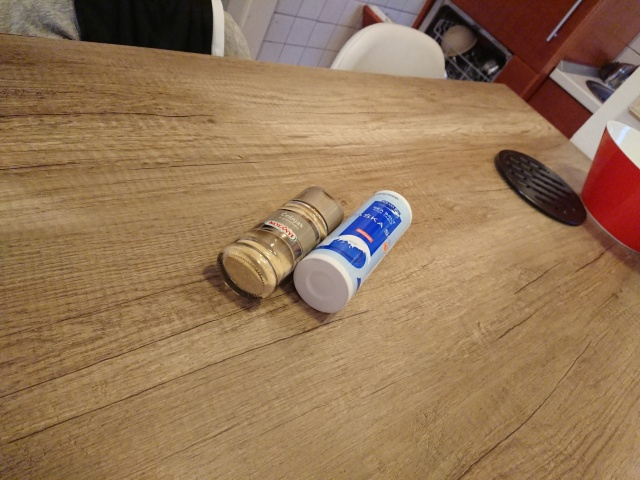Kotanyi Garlic Granules 70g: (213, 183, 347, 302)
Solana Pag Fine Sea Salt 250g: (291, 187, 415, 316)
